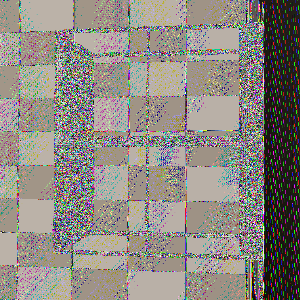Rack: (36, 38, 247, 277)
